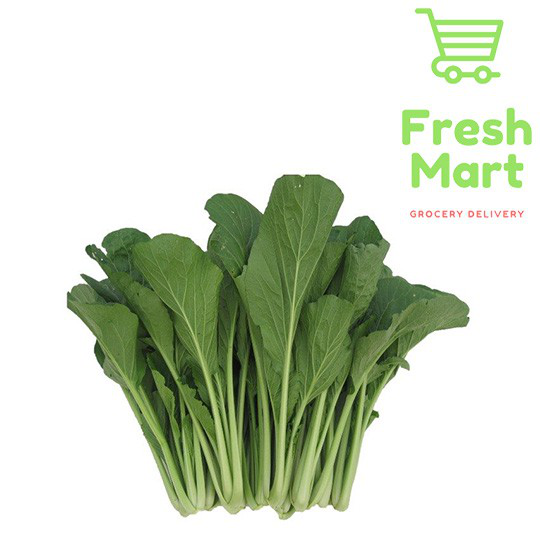Sawi: (71, 175, 469, 540)
